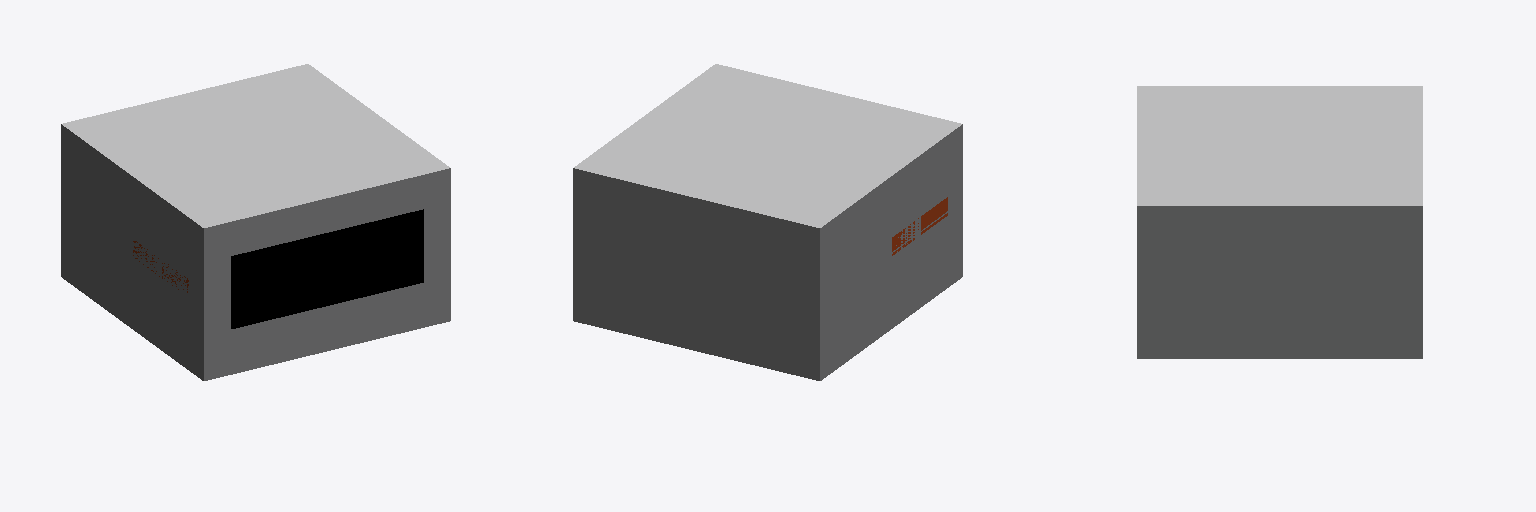
The model's file is office.obj.
3 renders of one model, left to right at view 1: azimuth 30°, elevation 25°; view 2: azimuth 150°, elevation 25°; view 3: azimuth 270°, elevation 25°, orthographic.
Parts seen in each view (by area): view 1: IndexedFaceSet__3_0, IndexedFaceSet, IndexedFaceSet__2_0, IndexedFaceSet__72_0; view 2: IndexedFaceSet__2_0, IndexedFaceSet__3_0; view 3: IndexedFaceSet__4_0, IndexedFaceSet__3_0.
Part boxes in pixels (left/top/right/bottom): IndexedFaceSet__3_0: left=62, top=64, right=449, bottom=227; IndexedFaceSet: left=204, top=168, right=450, bottom=380; IndexedFaceSet__2_0: left=61, top=124, right=203, bottom=380; IndexedFaceSet__72_0: left=231, top=209, right=423, bottom=328; IndexedFaceSet__2_0: left=573, top=124, right=962, bottom=380; IndexedFaceSet__3_0: left=574, top=64, right=961, bottom=227; IndexedFaceSet__4_0: left=1137, top=206, right=1422, bottom=358; IndexedFaceSet__3_0: left=1137, top=86, right=1422, bottom=205.
Bounding box in the file's own units: 4.57 × 3.89 × 4.57.